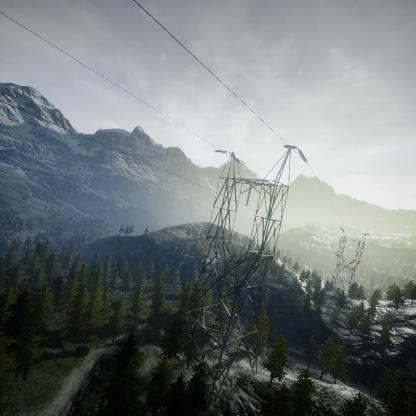tower: (170, 141, 310, 405), (327, 223, 373, 300)
